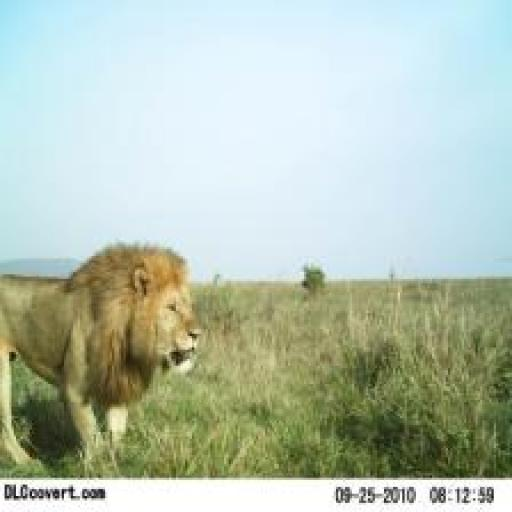lion: (4, 219, 206, 478)
